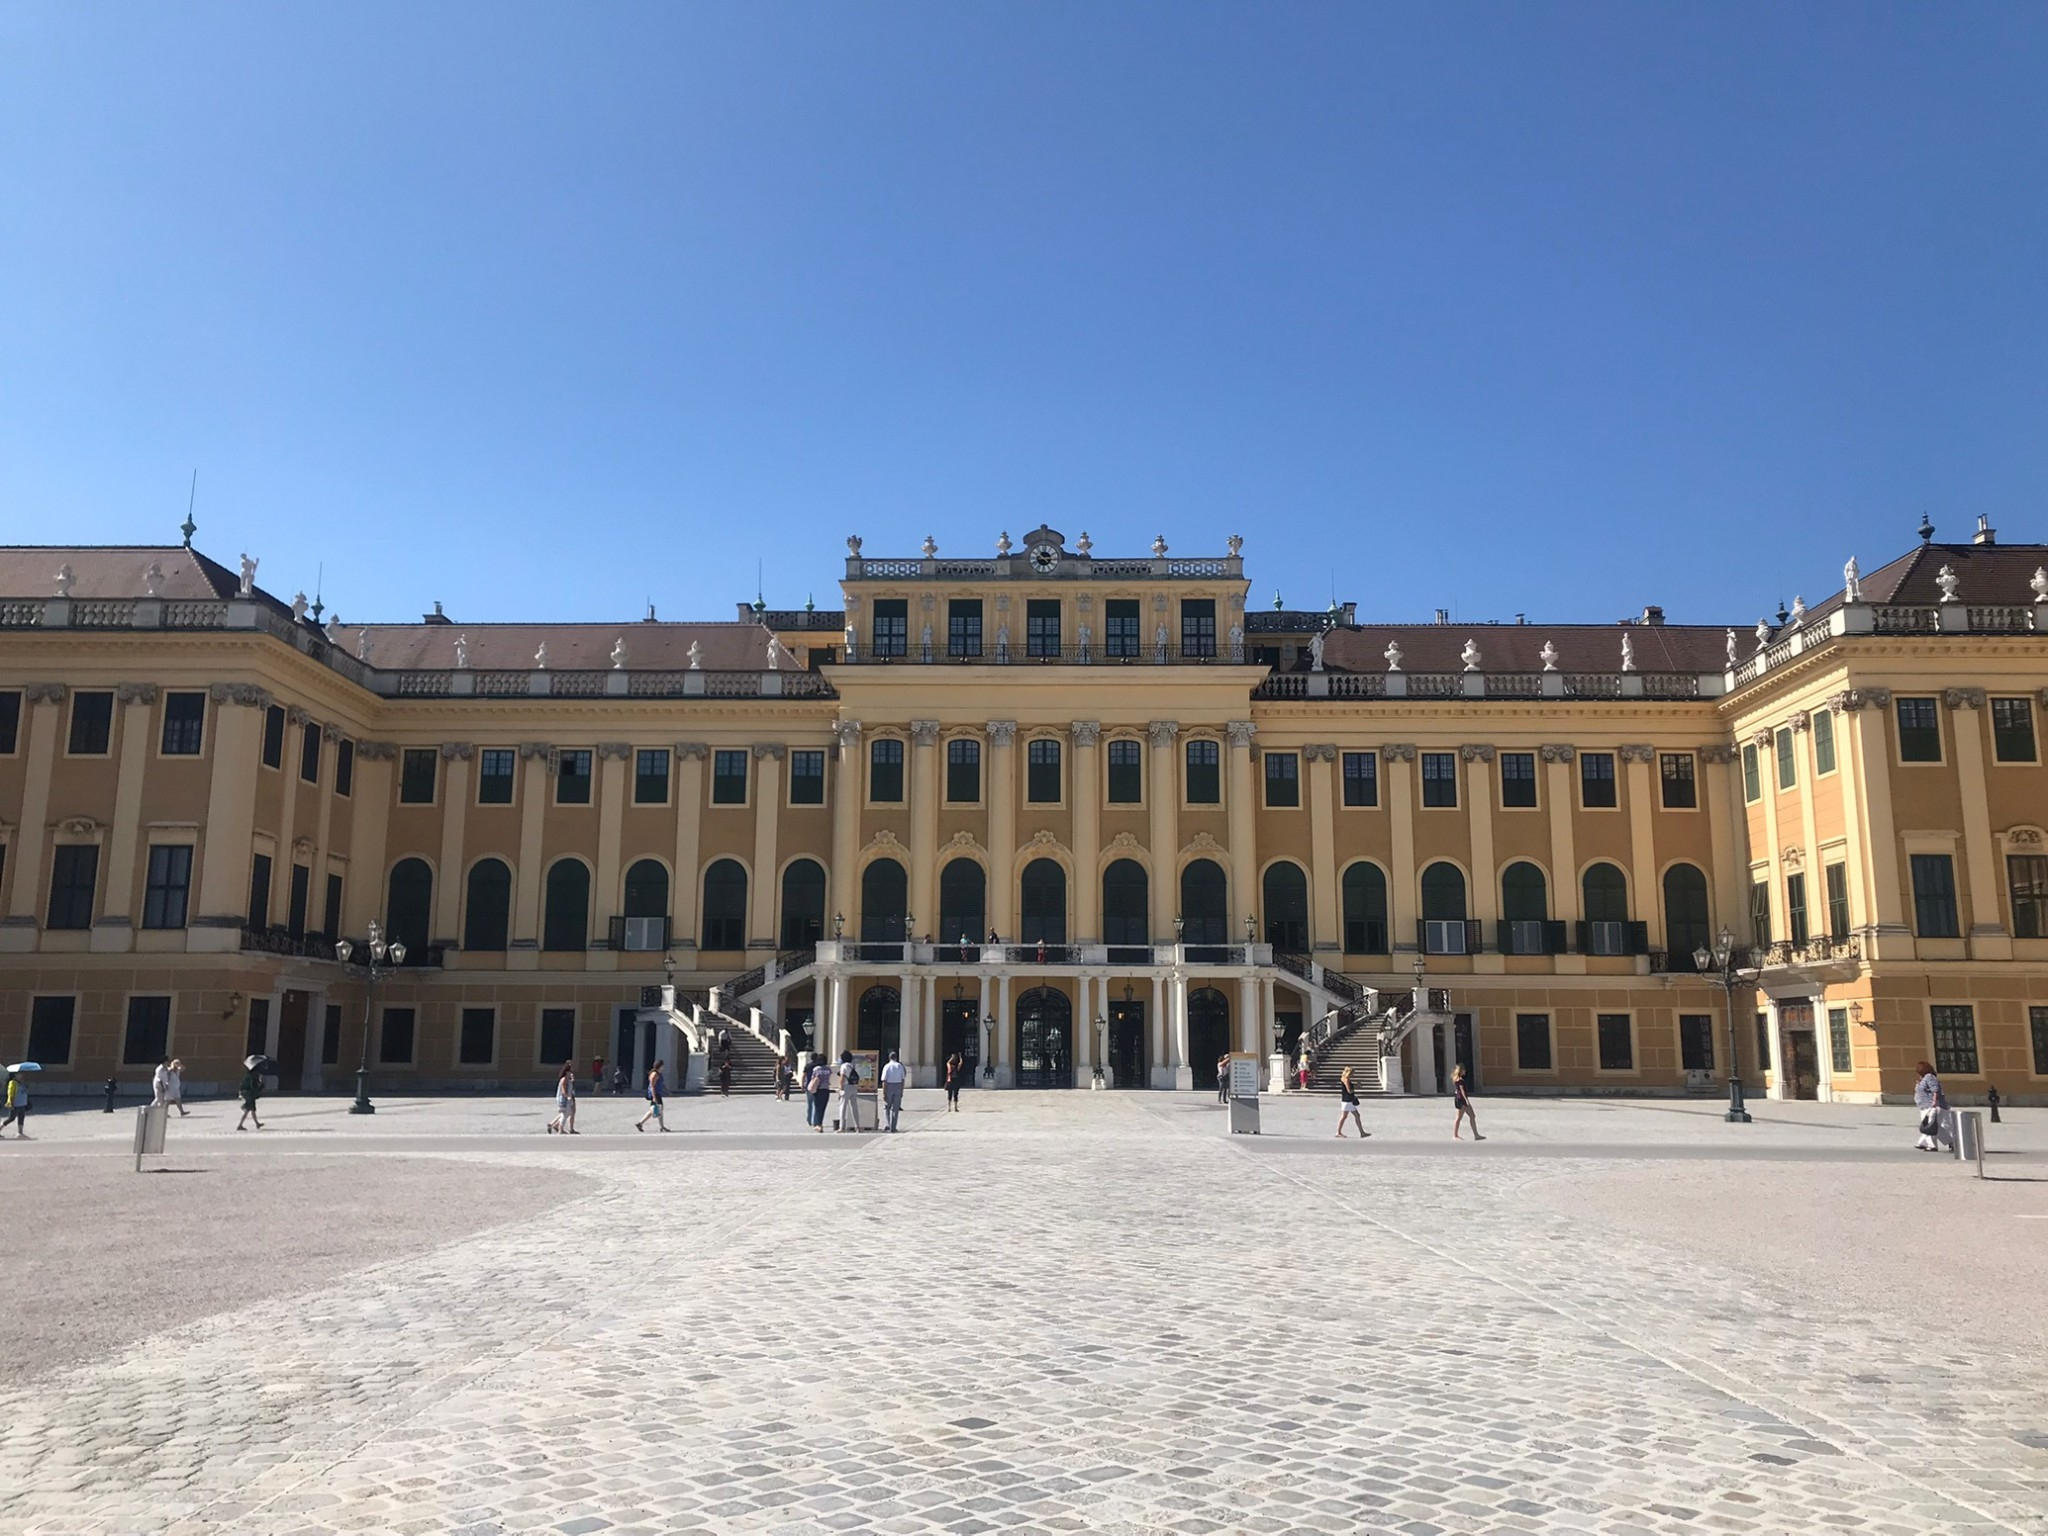people: (1446, 1069, 1487, 1143), (1334, 1060, 1369, 1143), (937, 1037, 969, 1122), (237, 1046, 266, 1137), (637, 1060, 666, 1137), (875, 1052, 904, 1128), (804, 1060, 831, 1131), (10, 1058, 31, 1146), (554, 1063, 578, 1143), (840, 1043, 860, 1134), (160, 1063, 190, 1116)
